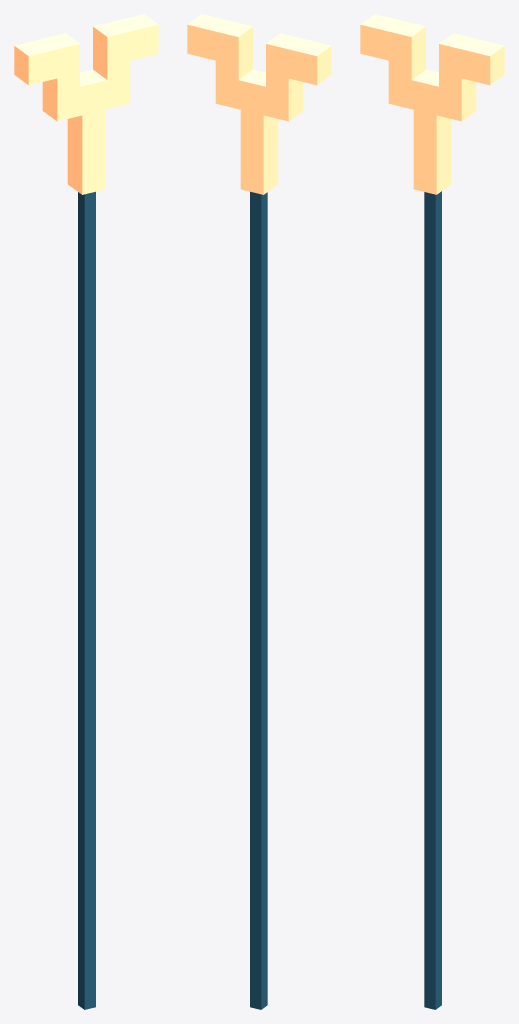
The model's file is Ytower_70m30em.gltf.
3 renders of one model, left to right at view 1: azimuth 30°, elevation 25°; view 2: azimuth 150°, elevation 25°; view 3: azimuth 330°, elevation 25°, orthographic.
Visible parts, largest first — view 1: Cube, Y; view 2: Cube, Y; view 3: Cube, Y.
Boxes of the visible parts, box(x1,y1,x2,y2) form: Cube: box(78, 191, 95, 1009); Y: box(14, 14, 158, 194); Cube: box(250, 191, 267, 1009); Y: box(187, 14, 331, 194); Cube: box(424, 191, 441, 1009); Y: box(360, 14, 504, 194).
Size of the model in its own units: 9.51 by 67.94 by 1.84.
